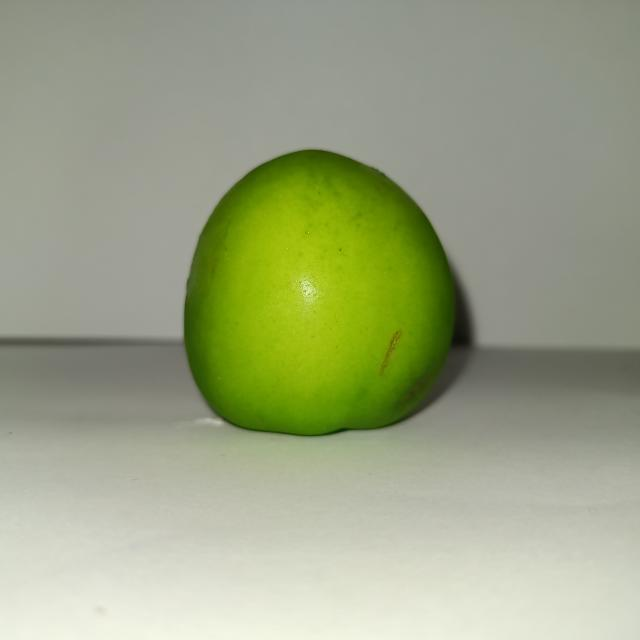Red: (181, 146, 458, 436)
